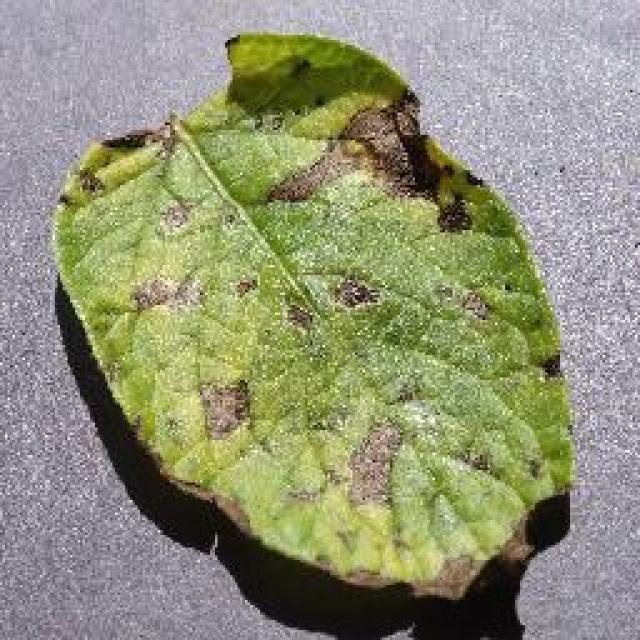Potato___Early_blight: (53, 31, 576, 605)
